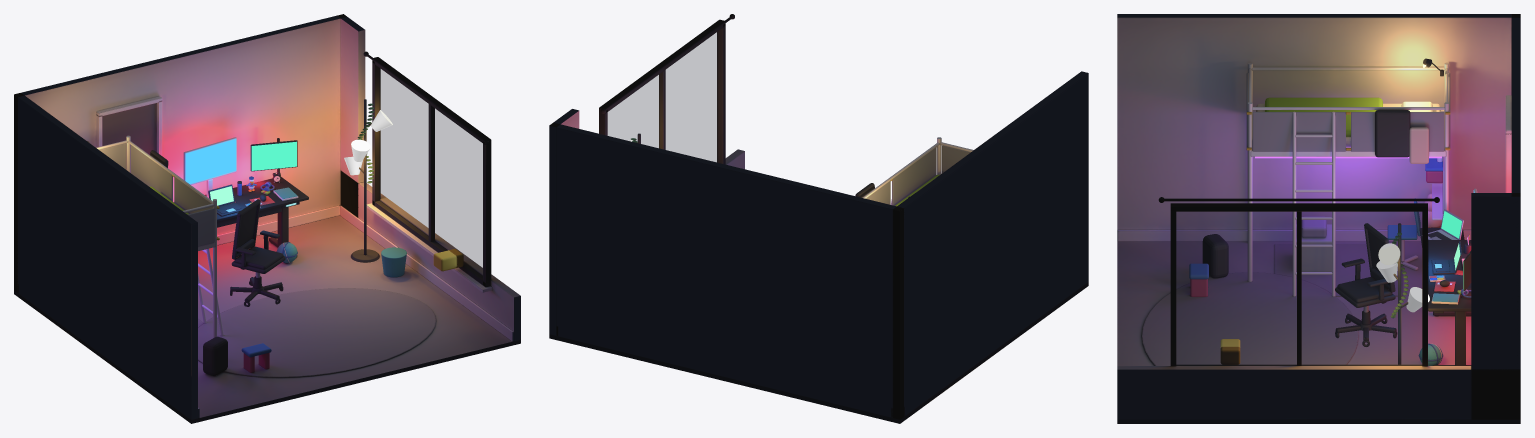
Rendered from room-v3.glb.
3 views of the same model, side by side, from view 1: azimuth 30°, elevation 25°; view 2: azimuth 150°, elevation 25°; view 3: azimuth 270°, elevation 25° (orthographic). The views are drawn at different scales.
Visible parts, largest first — view 1: room_shell, window_glass, room_props, desk_items, chair, screen_main, screen_side; view 2: room_shell, window_glass, room_props; view 3: room_shell, window_glass, room_props, desk_items, chair, led_strip_bed.
Part boxes in pixels (x1,y1,x2,y2): room_shell: [14, 14, 520, 423]; window_glass: [379, 68, 482, 275]; room_props: [87, 99, 463, 375]; desk_items: [174, 137, 308, 227]; chair: [230, 199, 285, 306]; screen_main: [185, 139, 236, 183]; screen_side: [251, 141, 296, 170]; room_shell: [549, 14, 1088, 423]; window_glass: [608, 32, 717, 162]; room_props: [630, 133, 973, 206]; room_shell: [1117, 14, 1520, 423]; window_glass: [1176, 212, 1421, 365]; room_props: [1189, 58, 1471, 365]; desk_items: [1419, 188, 1477, 313]; chair: [1335, 223, 1397, 346]; led_strip_bed: [1255, 156, 1441, 158].
Bounding box in the file's own units: 4.4 × 2.55 × 4.1.
Materials: 11 (4 with a texture image).
